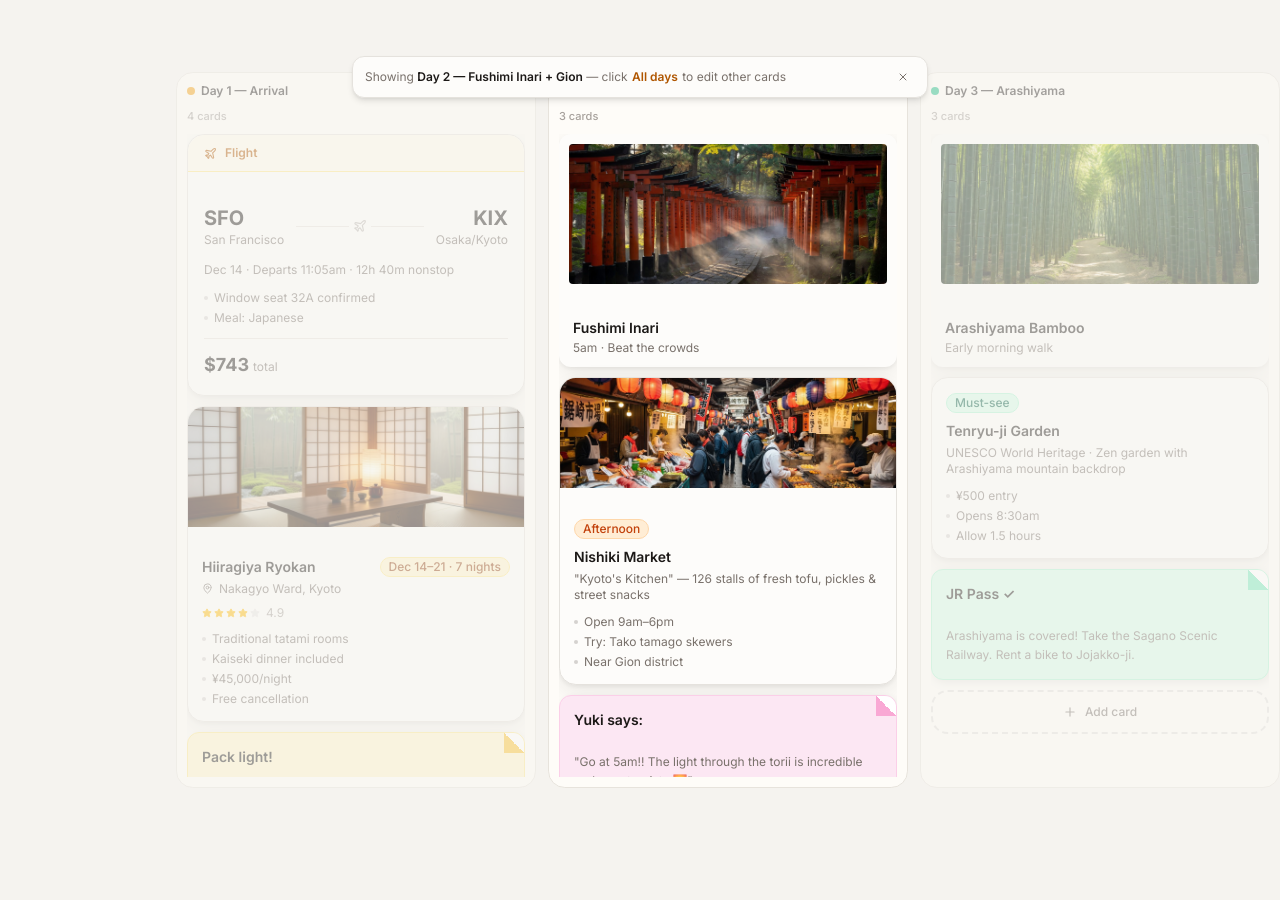
TripCanvasKanbanView day filter › shows a dismissible day filter hint on desktop when a day is selected
Expected: the message shows "Showing", [365,69,414,84]
Expected: the message shows "All days", [631,68,679,86]
Click the button named "Dismiss day filter hint" at (903, 77), box [891,65,915,89]
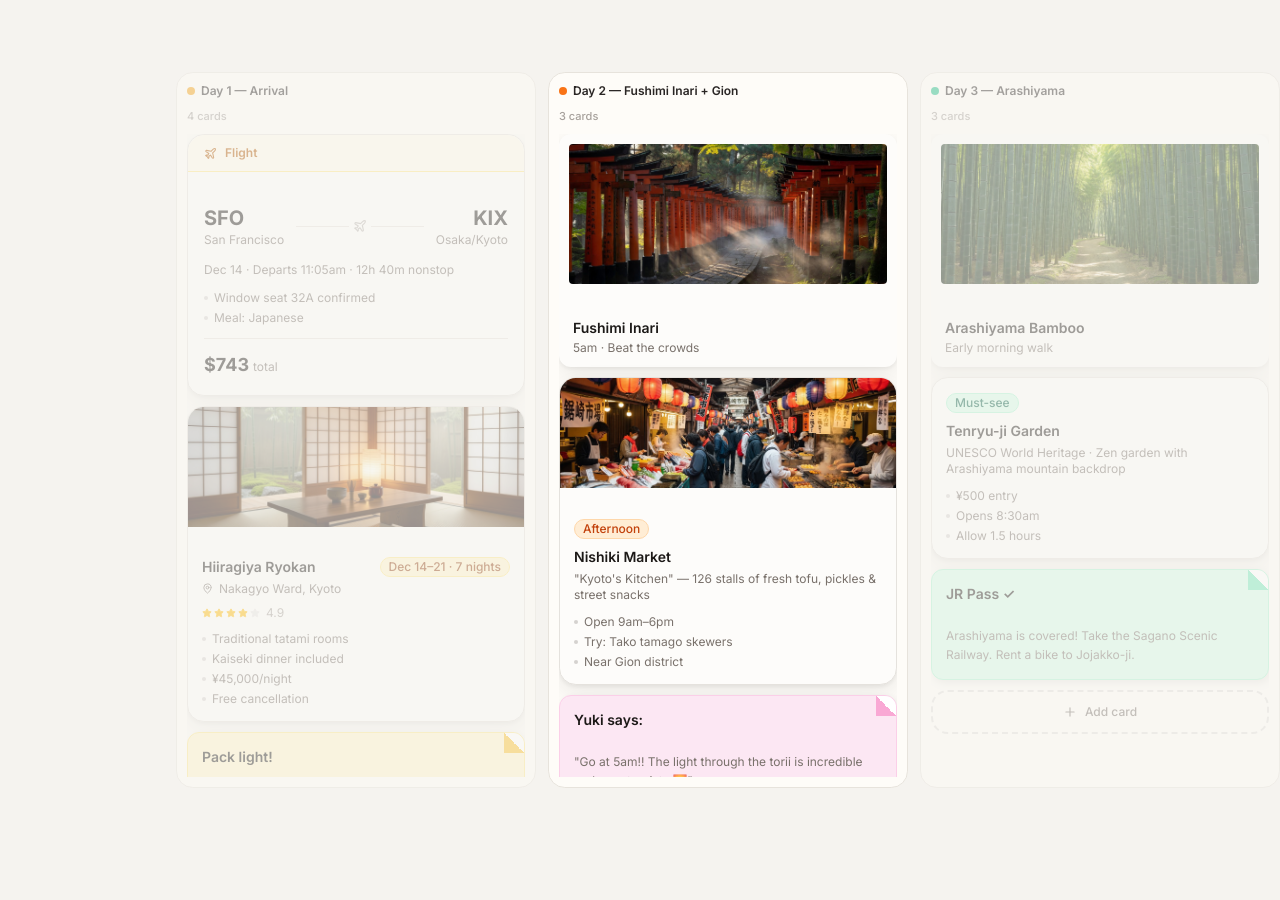
Expected: the message "Showing Day 2 — Fushimi Inari + Gion — click All days to edit other cards" is gone
